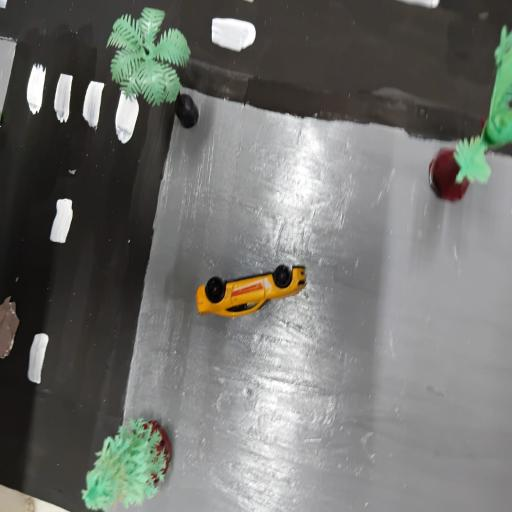car crash: (189, 239, 319, 336)
